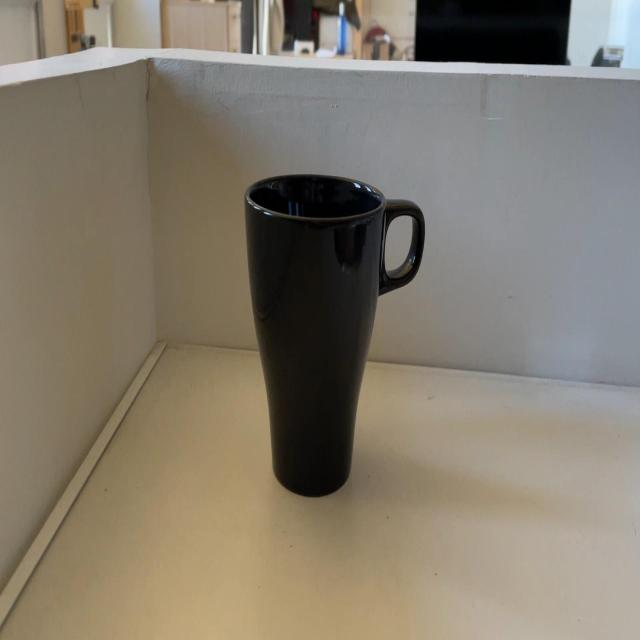cup: (243, 173, 426, 498)
